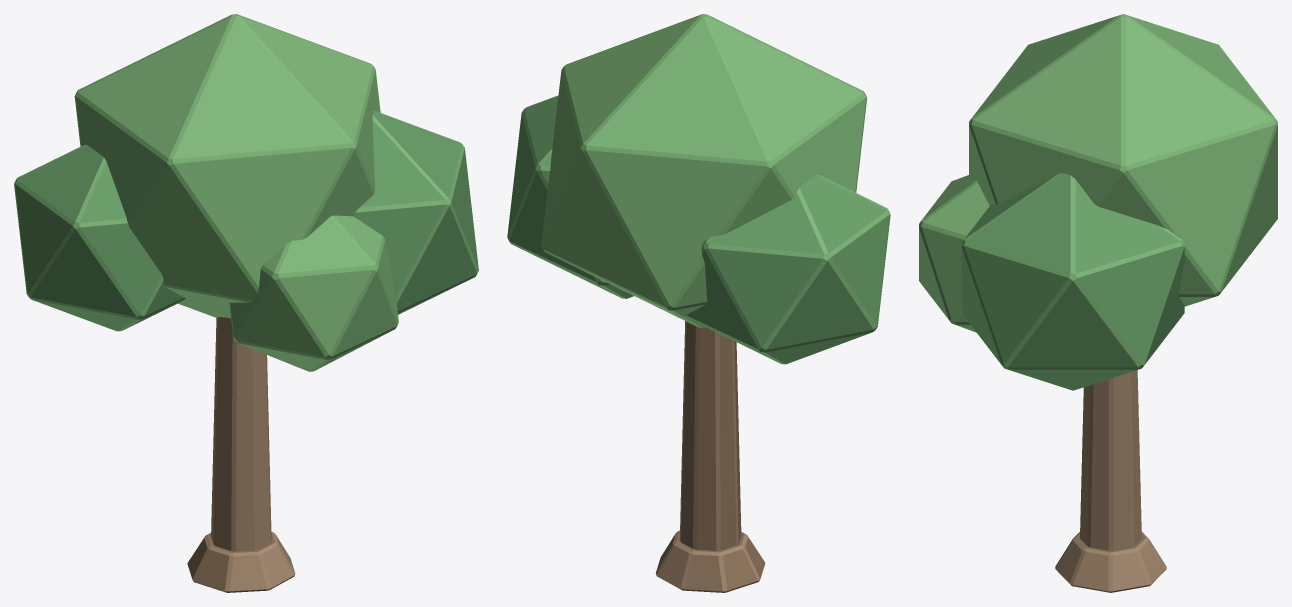
The model's file is 植被_行道树_01.fbx.
The picture shows the model from 3 angles, left to right: view 1: azimuth 30°, elevation 25°; view 2: azimuth 150°, elevation 25°; view 3: azimuth 270°, elevation 25°; orthographic projection.
Parts seen in each view (by area): view 1: 树冠.002, 树干.002; view 2: 树冠.002, 树干.002; view 3: 树冠.002, 树干.002.
Boxes of the visible parts, <box> form: 树冠.002: <box>14,14,478,371</box>; 树干.002: <box>187,317,295,592</box>; 树冠.002: <box>507,14,890,364</box>; 树干.002: <box>655,321,765,592</box>; 树冠.002: <box>919,14,1277,390</box>; 树干.002: <box>1055,370,1166,592</box>.
Bounding box in the file's own units: 362 × 485 × 285.
